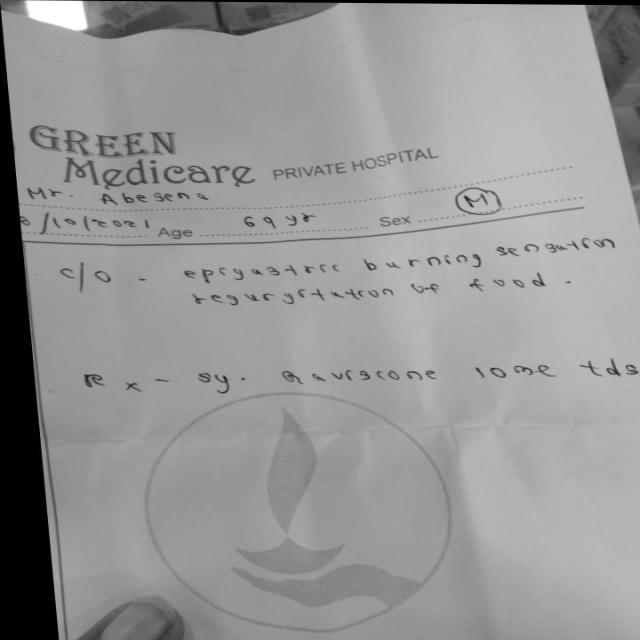Prescription: (266, 350, 637, 386)
